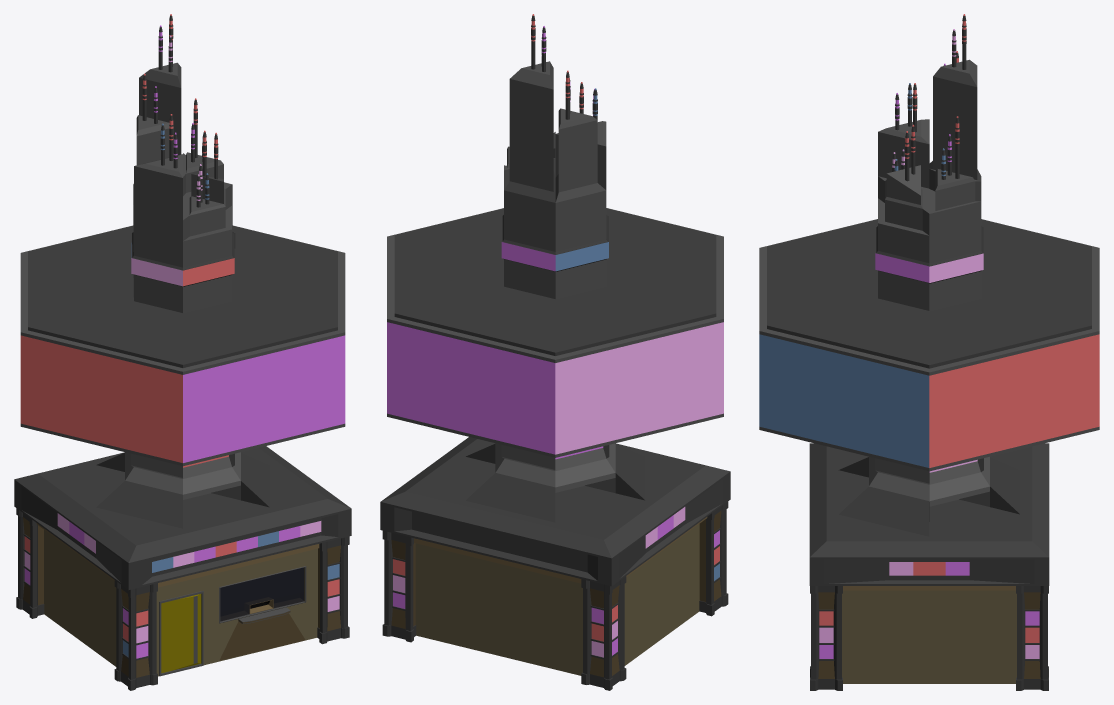
File: CybP-PawnShop.fbx
The picture shows the model from 3 angles, left to right: view 1: azimuth 30°, elevation 25°; view 2: azimuth 150°, elevation 25°; view 3: azimuth 270°, elevation 25°; orthographic projection. The views are drawn at different scales.
Parts seen in each view (by area): view 1: CybP_PawnShop; view 2: CybP_PawnShop; view 3: CybP_PawnShop.
Part boxes in pixels (x1=…): CybP_PawnShop: x1=14, y1=14, x2=351, y2=690; CybP_PawnShop: x1=380, y1=14, x2=730, y2=690; CybP_PawnShop: x1=759, y1=14, x2=1099, y2=690.
Size of the model in its own units: 9.16 by 16.02 by 7.93.
